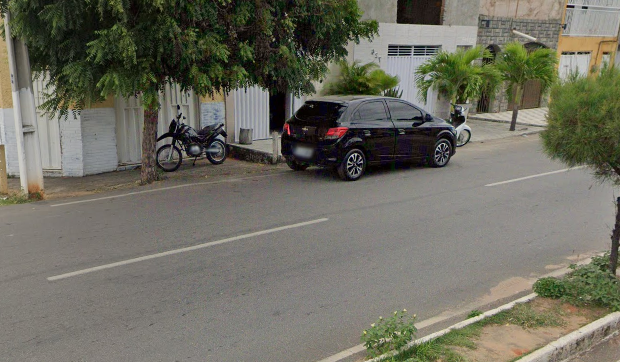car: (277, 91, 460, 192)
